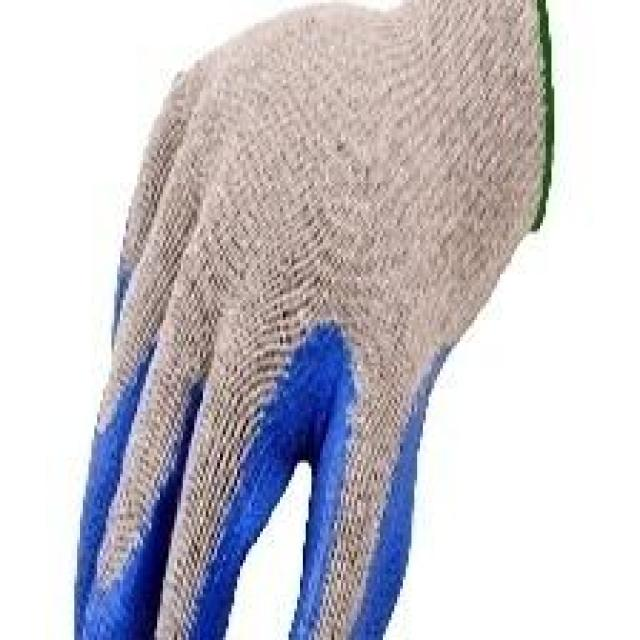Glove: (81, 0, 559, 640)
